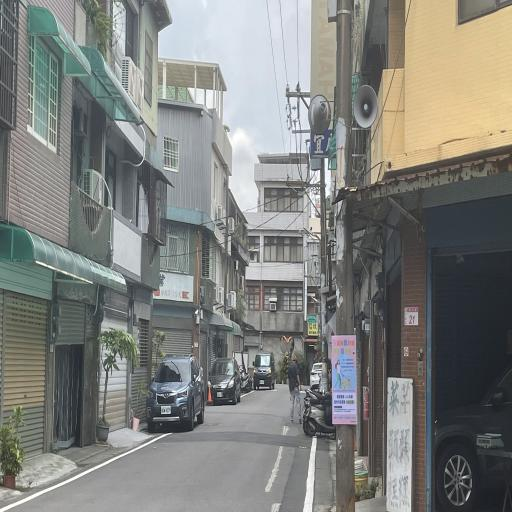car: (139, 340, 207, 438), (207, 346, 243, 410), (248, 346, 280, 405)
whiteline: (0, 421, 170, 512), (299, 428, 320, 512)
